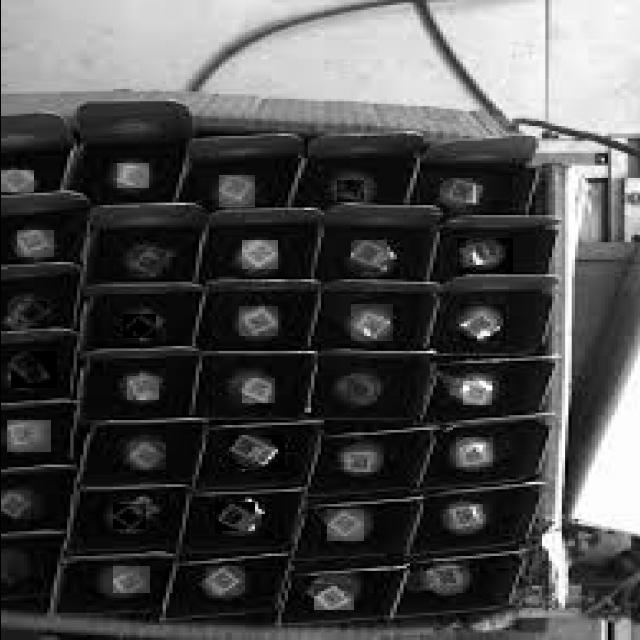DataMatrix: (456, 238, 512, 274), (228, 435, 284, 469), (459, 304, 505, 341), (10, 351, 56, 388), (350, 304, 392, 341), (439, 178, 485, 210), (6, 420, 50, 452), (326, 509, 363, 541), (238, 306, 277, 336), (214, 502, 254, 531), (350, 240, 386, 272), (218, 176, 254, 208), (205, 566, 244, 595), (455, 437, 492, 467), (241, 240, 277, 269), (313, 584, 353, 610), (129, 442, 165, 470), (112, 566, 149, 593), (16, 230, 53, 257), (448, 504, 482, 529), (241, 378, 274, 403), (112, 504, 145, 529), (0, 490, 30, 517), (116, 163, 148, 188), (132, 250, 165, 274), (122, 314, 155, 338), (126, 376, 158, 400), (0, 171, 33, 193), (462, 381, 491, 405), (343, 452, 376, 472), (17, 302, 46, 324), (432, 568, 462, 588), (346, 378, 376, 398), (336, 181, 363, 203)
